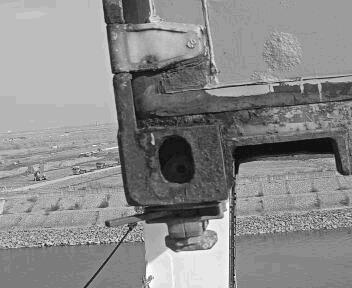twist_lock_1: (217, 158, 277, 201)
